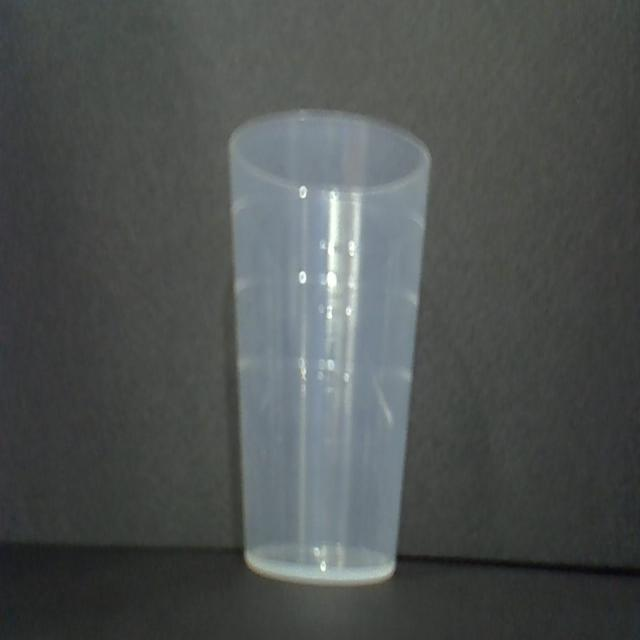cup: (226, 109, 430, 588)
